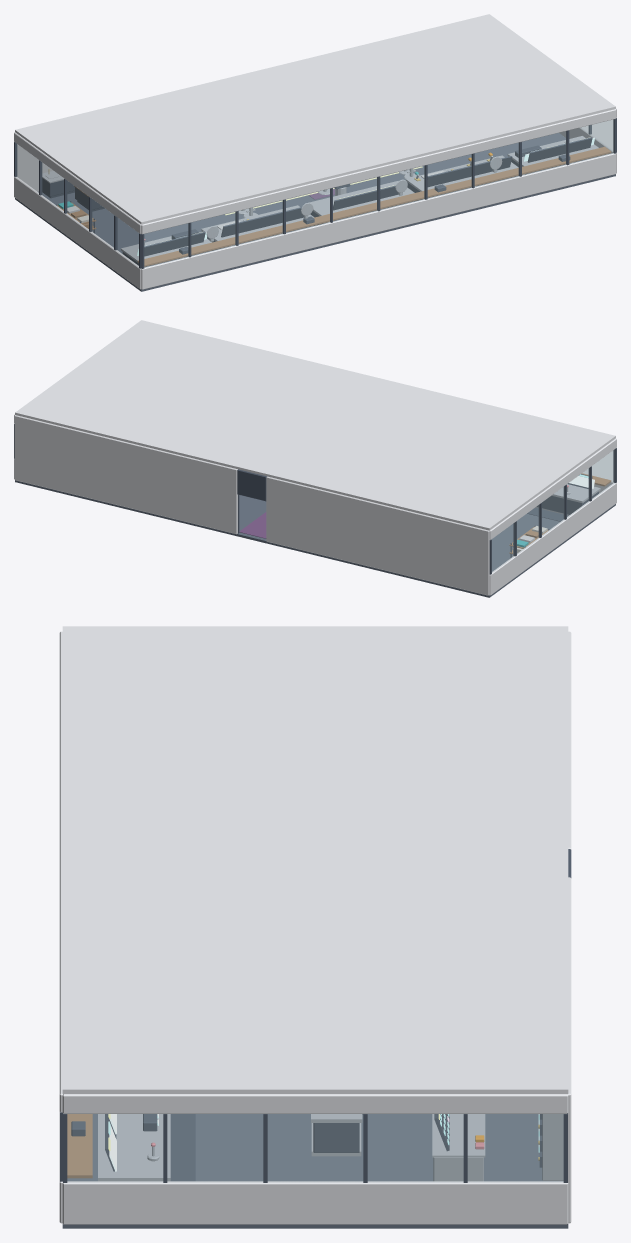
Rendered from bridge.glb.
3 renders of one model, top to bottom at view 1: azimuth 30°, elevation 25°; view 2: azimuth 150°, elevation 25°; view 3: azimuth 270°, elevation 25°, orthographic. The views are drawn at different scales.
Parts seen in each view (by area): view 1: CM_BULKHEAD, CM_GLASS_CLEAR, CM_TRIM, CM_DECK, CM_STEEL, CM_WOOD; view 2: CM_BULKHEAD, CM_GLASS_CLEAR, CM_DECK, CM_TRIM, CM_STEEL, CM_CARPET; view 3: CM_BULKHEAD, CM_GLASS_CLEAR, CM_DECK, CM_STEEL, CM_TRIM, CM_WOOD.
Part boxes in pixels (left/top/right/bottom): CM_BULKHEAD: left=14, top=14, right=616, bottom=289; CM_GLASS_CLEAR: left=16, top=119, right=613, bottom=267; CM_TRIM: left=14, top=118, right=616, bottom=268; CM_DECK: left=15, top=133, right=615, bottom=291; CM_STEEL: left=42, top=136, right=598, bottom=263; CM_WOOD: left=57, top=146, right=611, bottom=266; CM_BULKHEAD: left=14, top=320, right=616, bottom=595; CM_GLASS_CLEAR: left=492, top=450, right=614, bottom=572; CM_DECK: left=15, top=480, right=615, bottom=597; CM_TRIM: left=14, top=424, right=616, bottom=574; CM_STEEL: left=535, top=484, right=600, bottom=515; CM_CARPET: left=239, top=512, right=266, bottom=538; CM_BULKHEAD: left=59, top=626, right=571, bottom=1224; CM_GLASS_CLEAR: left=67, top=1114, right=563, bottom=1182; CM_DECK: left=62, top=1114, right=568, bottom=1228; CM_STEEL: left=98, top=1114, right=563, bottom=1181; CM_TRIM: left=60, top=849, right=571, bottom=1182; CM_WOOD: left=67, top=1114, right=92, bottom=1178.
Size of the model in its own units: 26.14 by 3.64 by 12.14.
